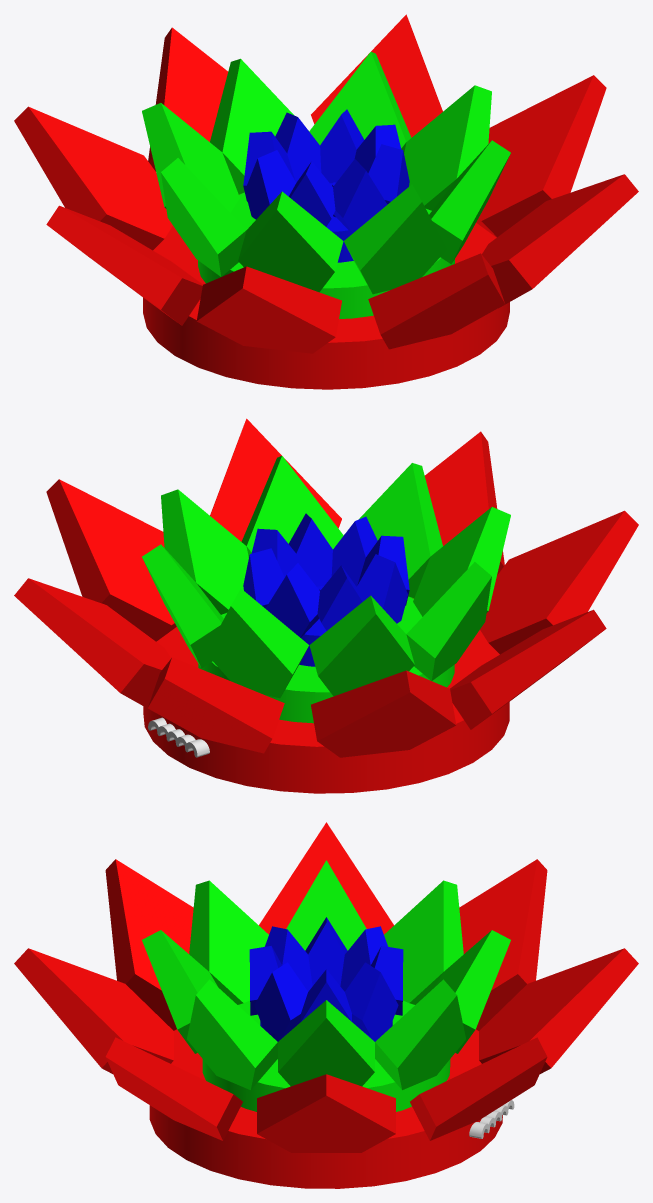
The model's file is current-design.glb.
3 renders of one model, top to bottom at view 1: azimuth 30°, elevation 25°; view 2: azimuth 150°, elevation 25°; view 3: azimuth 270°, elevation 25°, orthographic. The views are drawn at different scales.
Parts seen in each view (by area): view 1: 3DGeom-4 (×8), 3DGeom-13 (×8), 3DGeom-2, 3DGeom-22 (×8), 3DGeom-12; view 2: 3DGeom-4 (×8), 3DGeom-13 (×8), 3DGeom-2, 3DGeom-22 (×8), 3DGeom-12, 3DGeom-1; view 3: 3DGeom-4 (×8), 3DGeom-13 (×8), 3DGeom-2, 3DGeom-22 (×8), 3DGeom-12, 3DGeom-1.
Part boxes in pixels (bbox=[...]): 3DGeom-4 (×8): bbox=[14, 14, 638, 353]; 3DGeom-13 (×8): bbox=[142, 51, 510, 294]; 3DGeom-2: bbox=[143, 223, 509, 389]; 3DGeom-22 (×8): bbox=[243, 109, 409, 233]; 3DGeom-12: bbox=[198, 192, 454, 318]; 3DGeom-4 (×8): bbox=[14, 418, 638, 757]; 3DGeom-13 (×8): bbox=[142, 456, 510, 698]; 3DGeom-2: bbox=[143, 627, 509, 793]; 3DGeom-22 (×8): bbox=[243, 513, 409, 637]; 3DGeom-12: bbox=[198, 596, 454, 723]; 3DGeom-1: bbox=[148, 717, 209, 757]; 3DGeom-4 (×8): bbox=[14, 822, 638, 1152]; 3DGeom-13 (×8): bbox=[142, 860, 510, 1090]; 3DGeom-2: bbox=[149, 1029, 502, 1188]; 3DGeom-22 (×8): bbox=[249, 917, 403, 1036]; 3DGeom-12: bbox=[202, 1000, 450, 1111]; 3DGeom-1: bbox=[469, 1100, 514, 1138].
Bounding box in the file's own units: 0.0895 × 0.0291 × 0.0895.
